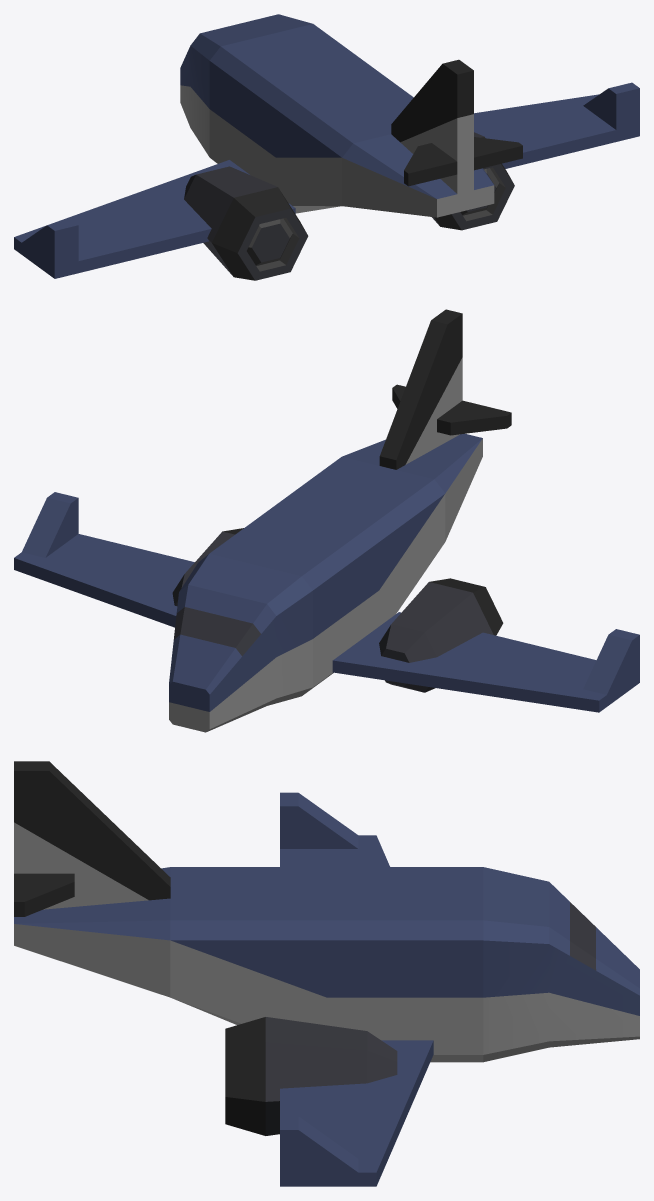
File: AirCraft_JetLuxury.fbx
3 renders of one model, top to bottom at view 1: azimuth 30°, elevation 25°; view 2: azimuth 150°, elevation 25°; view 3: azimuth 270°, elevation 25°, orthographic. The views are drawn at different scales.
Visible parts, largest first — view 1: plane_body_1, plane_end_13, wing_endHigh_9, engine_airplane%_8, plane_rudderLarge_4, wing_endHigh_10, plane_tailPoint%_14, plane_cockpitDown_0, engine_airplane%_7; view 2: plane_cockpitDown_0, wing_endHigh_9, plane_body_1, plane_end_13, wing_endHigh_10, plane_rudderLarge_4, engine_airplane%_8, plane_tailPoint%_14, engine_airplane%_7; view 3: plane_body_1, plane_end_13, plane_cockpitDown_0, plane_rudderLarge_4, wing_endHigh_10, engine_airplane%_7, plane_tailPoint%_14, wing_endHigh_9.
Part boxes in pixels (x1,y1,x2,y2): plane_body_1: (209, 24, 378, 185); plane_end_13: (276, 72, 413, 213); wing_endHigh_9: (14, 160, 295, 278); engine_airplane%_8: (184, 166, 308, 280); plane_rudderLarge_4: (391, 59, 522, 194); wing_endHigh_10: (474, 82, 639, 168); plane_tailPoint%_14: (342, 134, 494, 217); plane_cockpitDown_0: (180, 14, 312, 156); engine_airplane%_7: (432, 132, 514, 230); plane_cockpitDown_0: (169, 553, 312, 732); wing_endHigh_9: (332, 612, 639, 712); plane_body_1: (210, 505, 379, 693); plane_end_13: (276, 457, 445, 625); wing_endHigh_10: (14, 492, 194, 627); plane_rudderLarge_4: (379, 309, 511, 469); engine_airplane%_8: (379, 578, 503, 692); plane_tailPoint%_14: (342, 433, 482, 541); engine_airplane%_7: (172, 528, 243, 605); plane_body_1: (327, 867, 483, 1062); plane_end_13: (170, 867, 326, 1025); plane_cockpitDown_0: (483, 867, 639, 1062); plane_rudderLarge_4: (14, 761, 170, 916); wing_endHigh_10: (280, 1040, 433, 1186); engine_airplane%_7: (225, 1017, 397, 1135); plane_tailPoint%_14: (14, 867, 170, 997); wing_endHigh_9: (280, 792, 389, 866).
Bounding box in the file's own units: 51 × 21 × 40.
